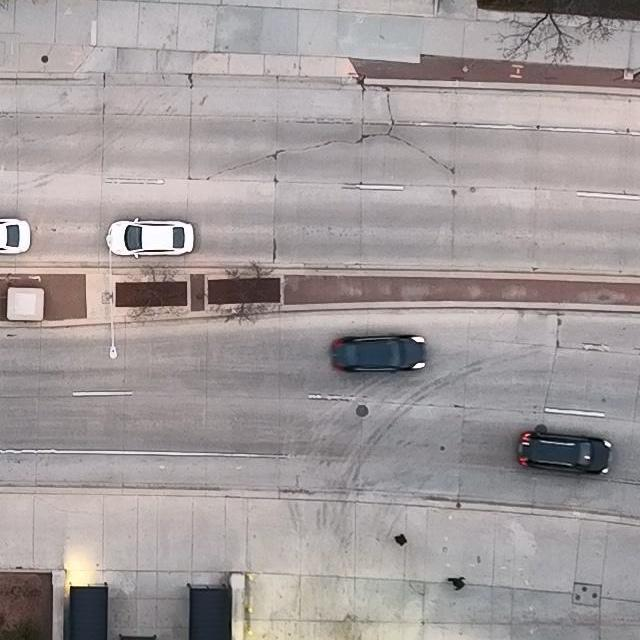car: (516, 430, 612, 477), (331, 333, 427, 373), (105, 218, 195, 259), (0, 217, 31, 254)
